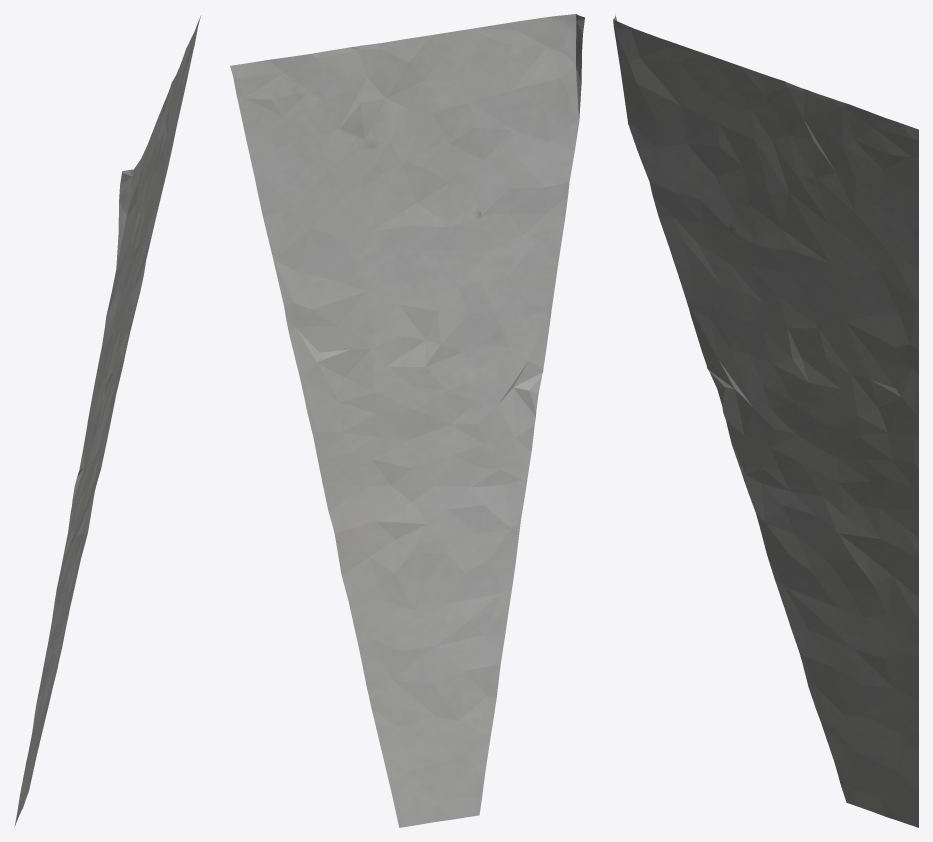
3 views of the same model, side by side, from view 1: azimuth 30°, elevation 25°; view 2: azimuth 150°, elevation 25°; view 3: azimuth 270°, elevation 25° (orthographic). The views are drawn at different scales.
Bounding box in the file's own units: 0.5264 × 1.67 × 0.5882.
Materials: 1 (1 with a texture image).
